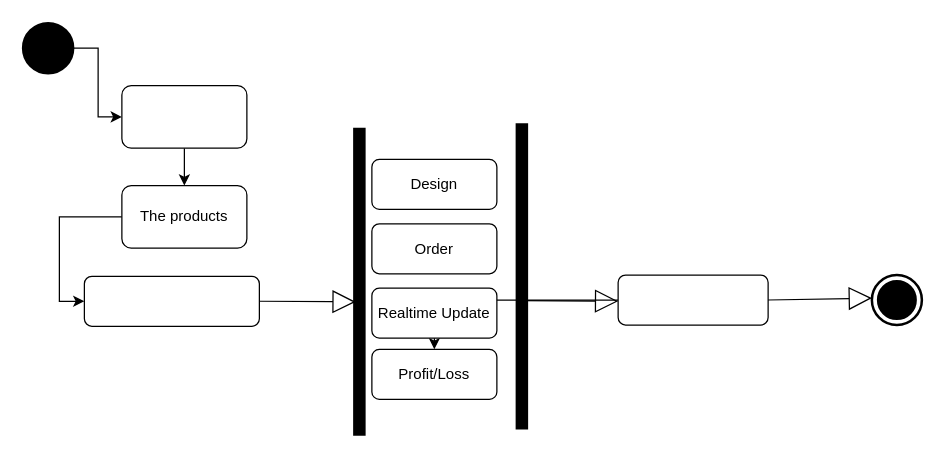
This 944x463 diagram has some shape labels left out. The centre of each missing label's shape, as x and y in pixels:
Deliver the Product: pixel 692 299
Manufacturer: pixel 184 116
Purchased: pixel 171 300
